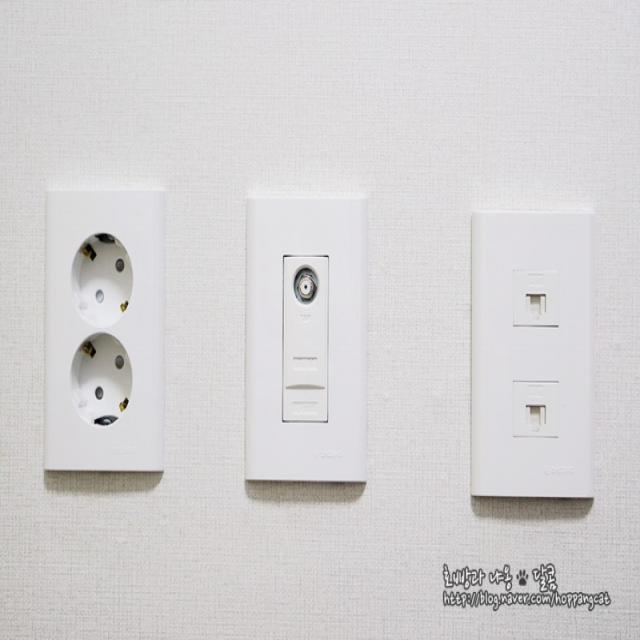typeb: (35, 171, 191, 507)
